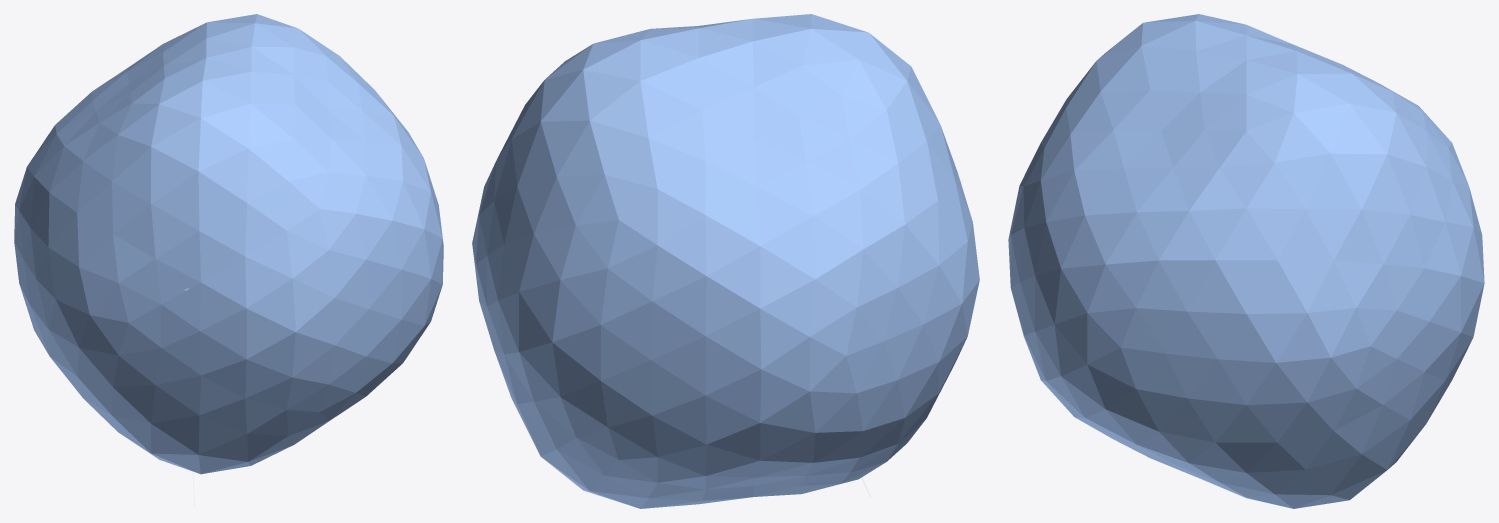
File: detailed-cell.glb
The picture shows the model from 3 angles, left to right: view 1: azimuth 30°, elevation 25°; view 2: azimuth 150°, elevation 25°; view 3: azimuth 270°, elevation 25°; orthographic projection. The views are drawn at different scales.
Size of the model in its own units: 9.09 by 9.44 by 9.02.
